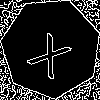X: (26, 23, 79, 81)
